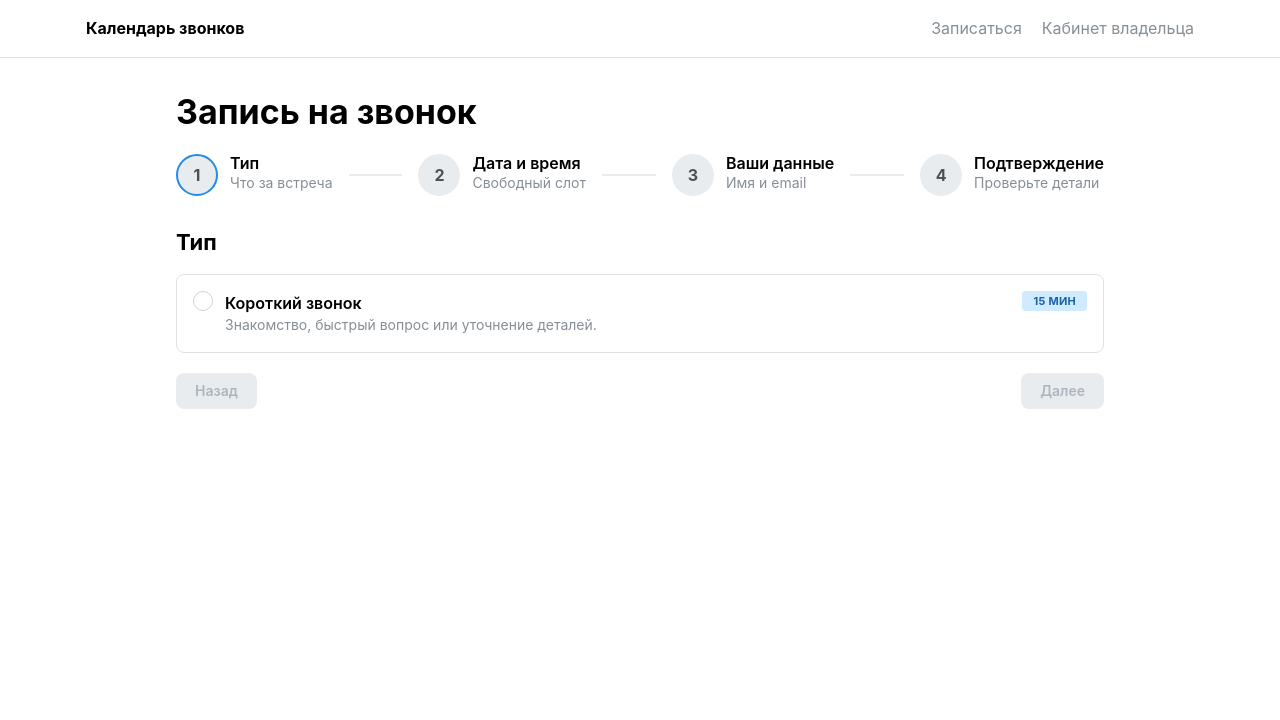
Test: шаг «Ваши данные» › показывает поля имени и email с подсказками и примечанием
Click the radio button labelled "Короткий звонок" at point(293, 303), box [176, 274, 1104, 353]
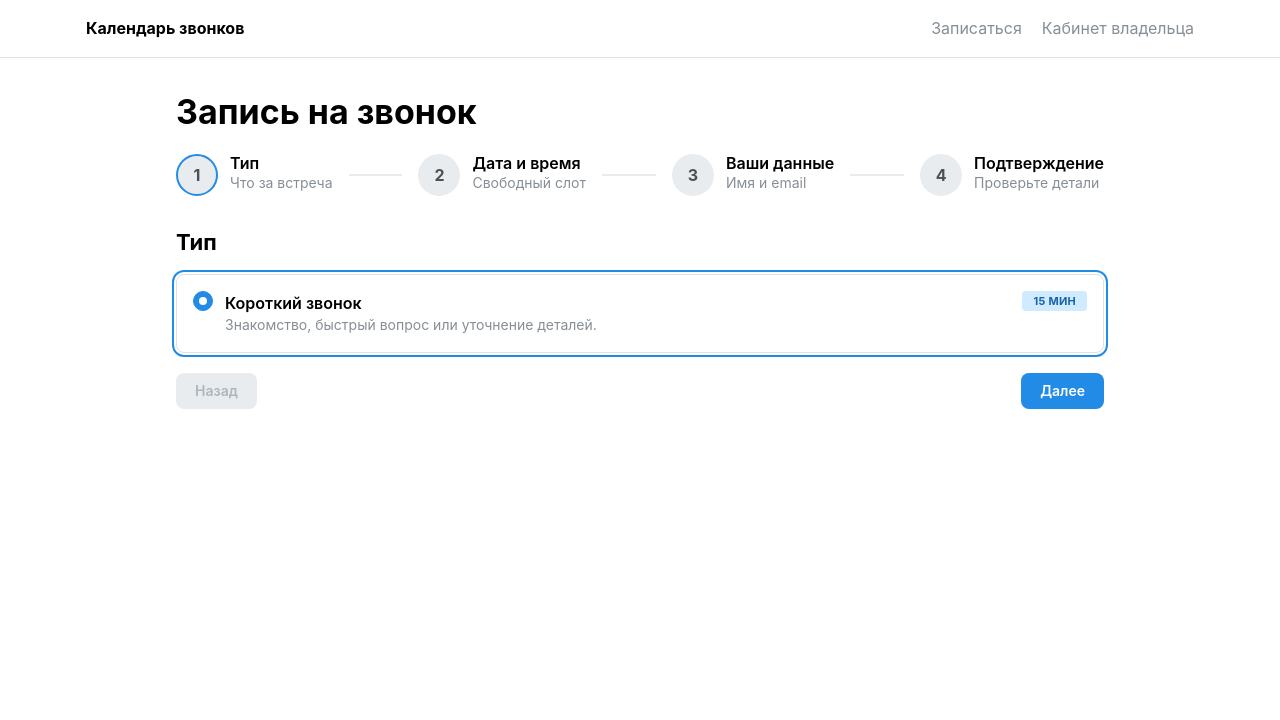
Click the button "Далее" at point(1063, 391), box [1021, 373, 1104, 409]
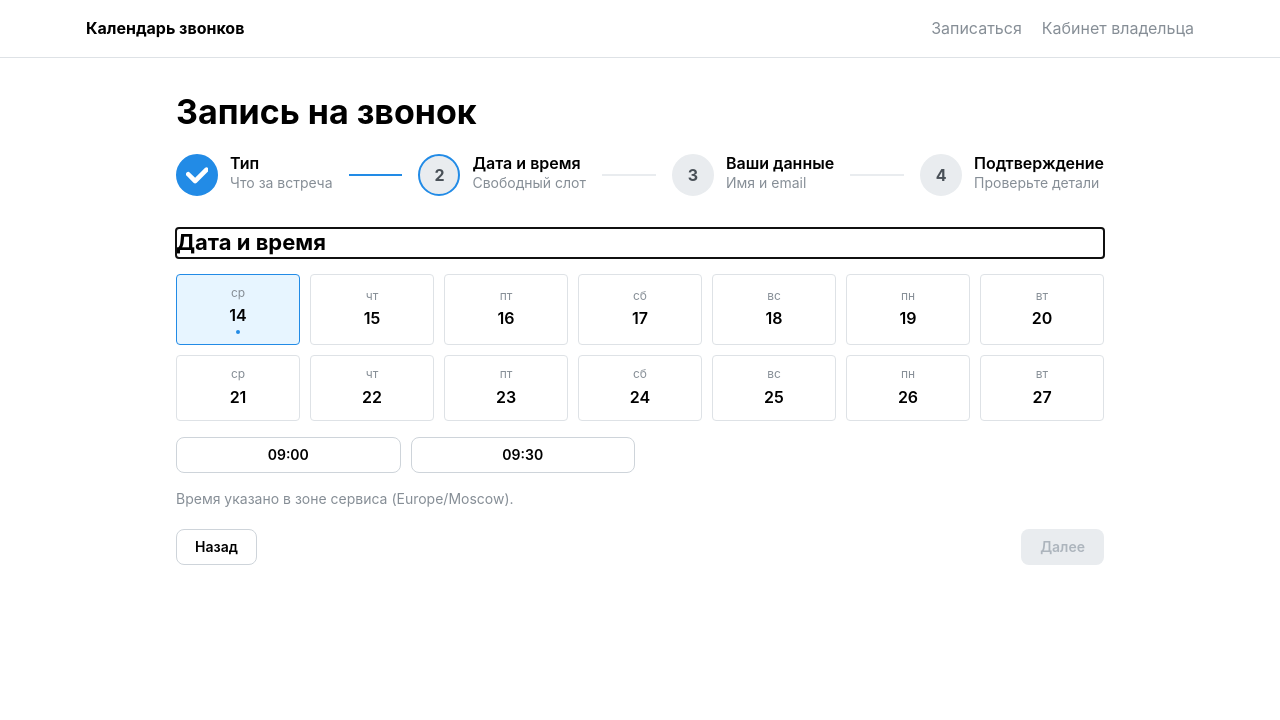
Click the button "09:00" at point(288, 455), box [176, 437, 400, 473]
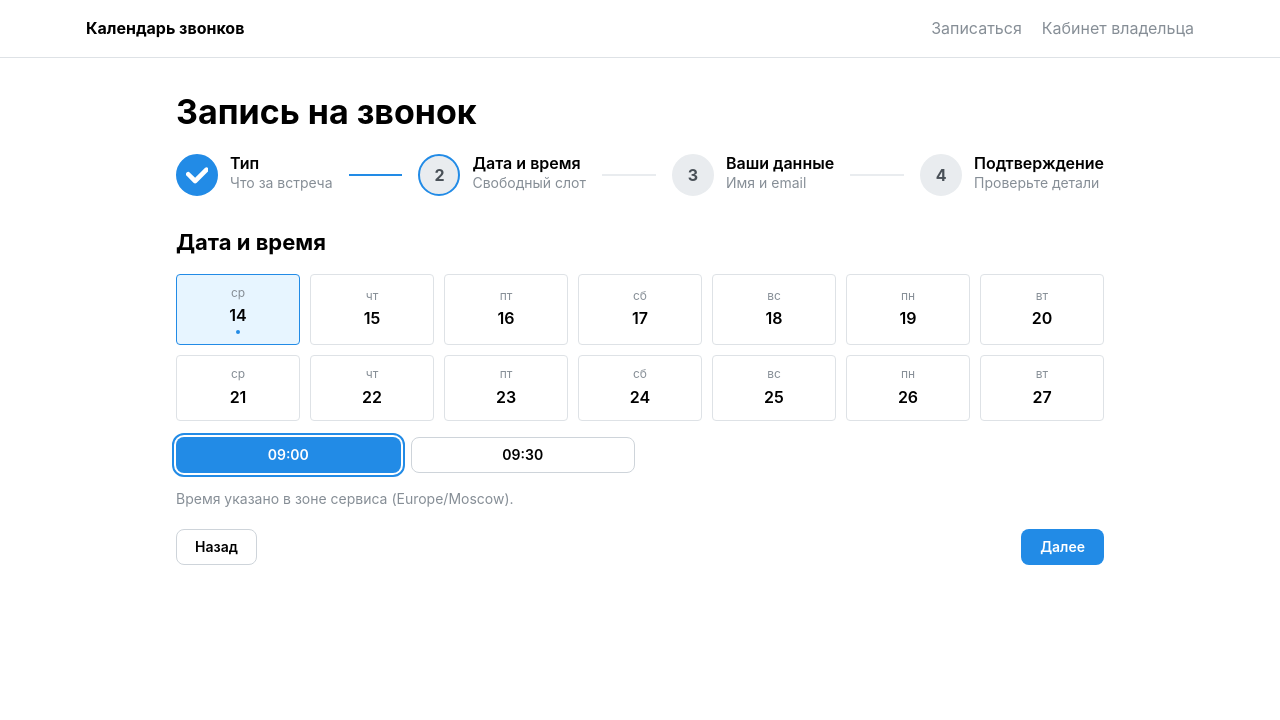
Click the button "Далее" at point(1063, 547), box [1021, 529, 1104, 565]
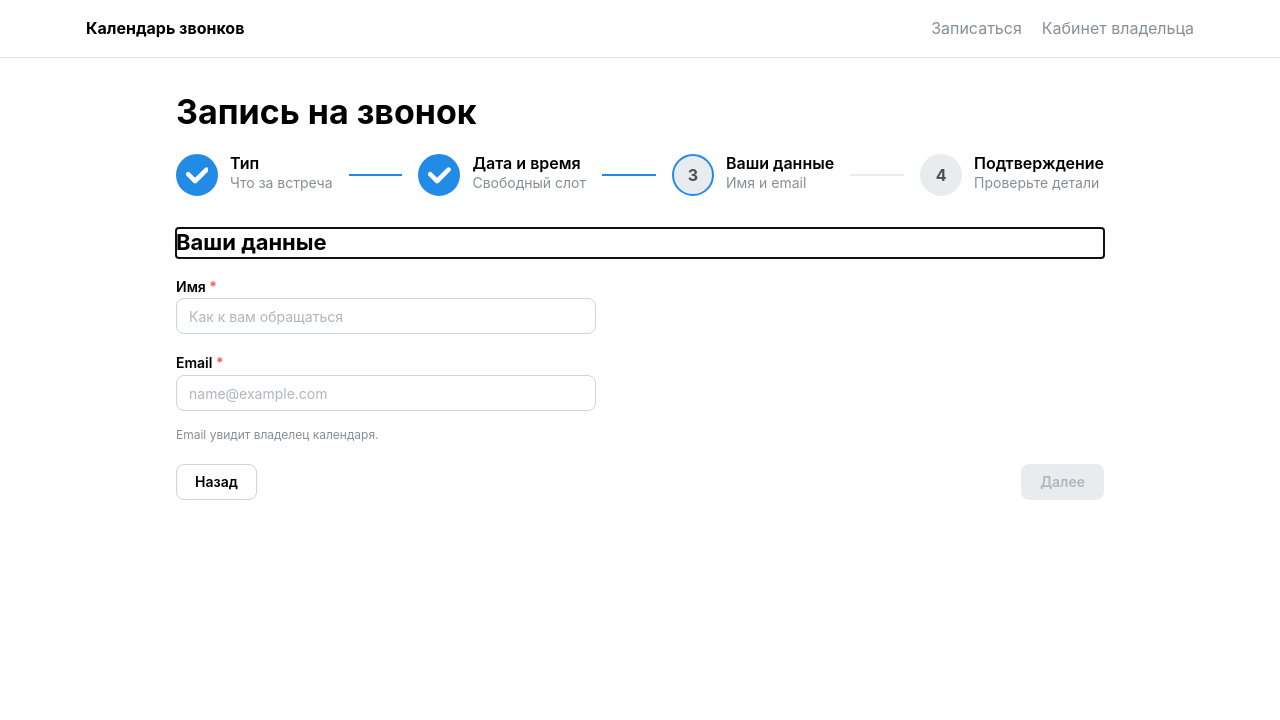
Expected: the text "Email увидит владелец календаря." is shown, [176, 427, 378, 442]
